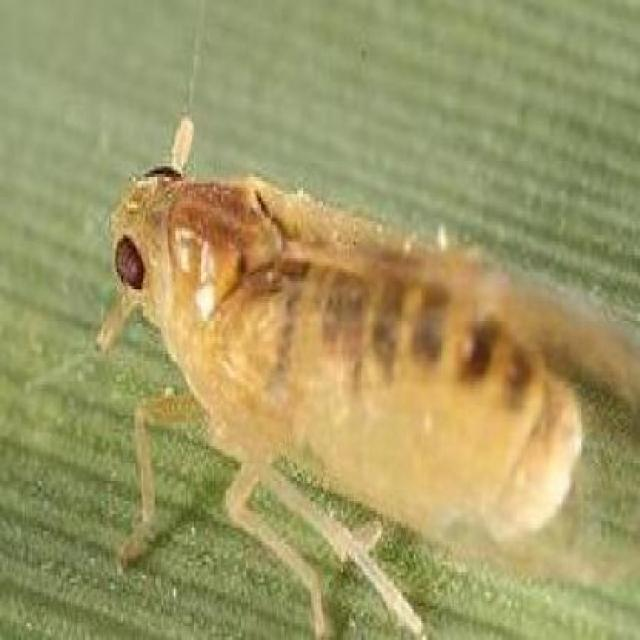brown-planthopper: (120, 162, 574, 542)
